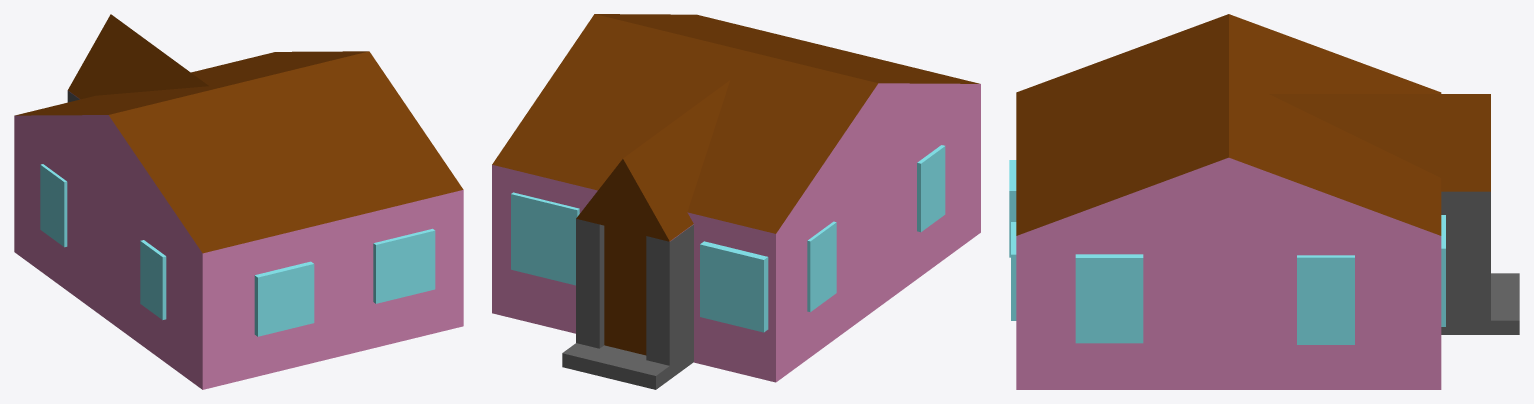
The model's file is SimpleHouse2.fbx.
3 views of the same model, side by side, from view 1: azimuth 30°, elevation 25°; view 2: azimuth 150°, elevation 25°; view 3: azimuth 270°, elevation 25° (orthographic). The views are drawn at different scales.
Visible parts, largest first — view 1: Cube; view 2: Cube; view 3: Cube.
Boxes of the visible parts, x1=… form: Cube: x1=14, y1=14, x2=463, y2=389; Cube: x1=492, y1=14, x2=980, y2=389; Cube: x1=1009, y1=14, x2=1519, y2=389.
Bounding box in the file's own units: 1663 × 1207 × 2405.
